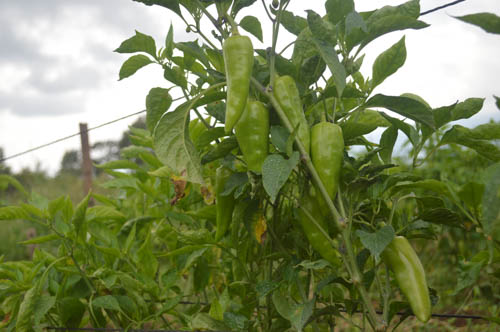ChiliPepper: (384, 237, 434, 322), (294, 196, 344, 268), (220, 38, 254, 135), (310, 122, 342, 212), (273, 74, 309, 152), (235, 102, 269, 167), (210, 167, 234, 236)
